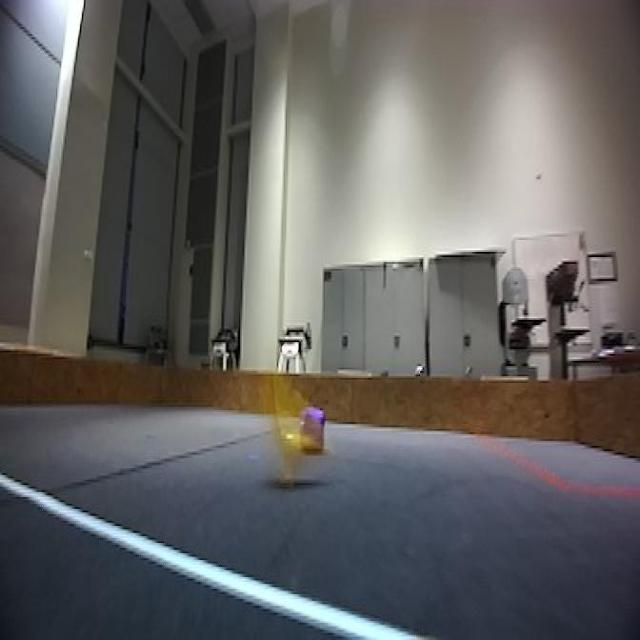frc_cone: (263, 386, 313, 485)
frc_cube: (303, 397, 333, 448)
